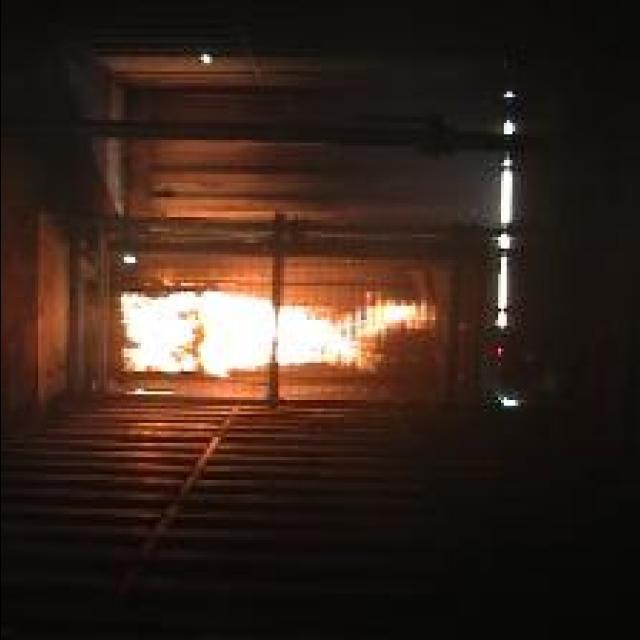Fire: (120, 292, 437, 378)
